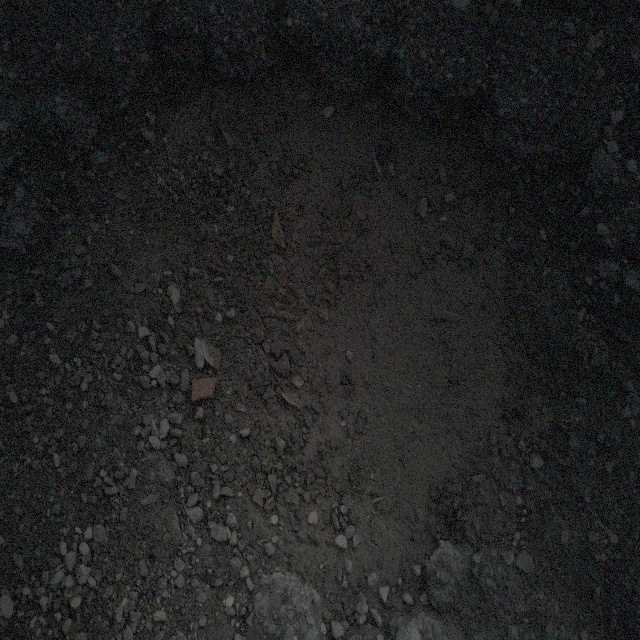pothole: (69, 15, 595, 470)
